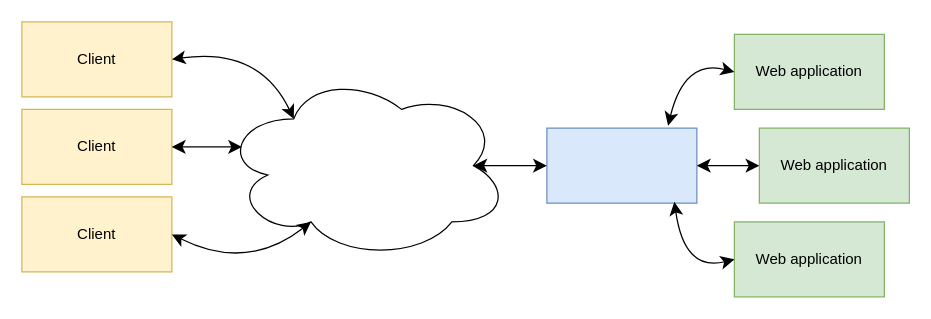
This 931x319 diagram has some shape labels left out. Each missing label, with the centre of its shape:
Gateryx: the point at 621,165
Untrusted network: the point at 365,165
